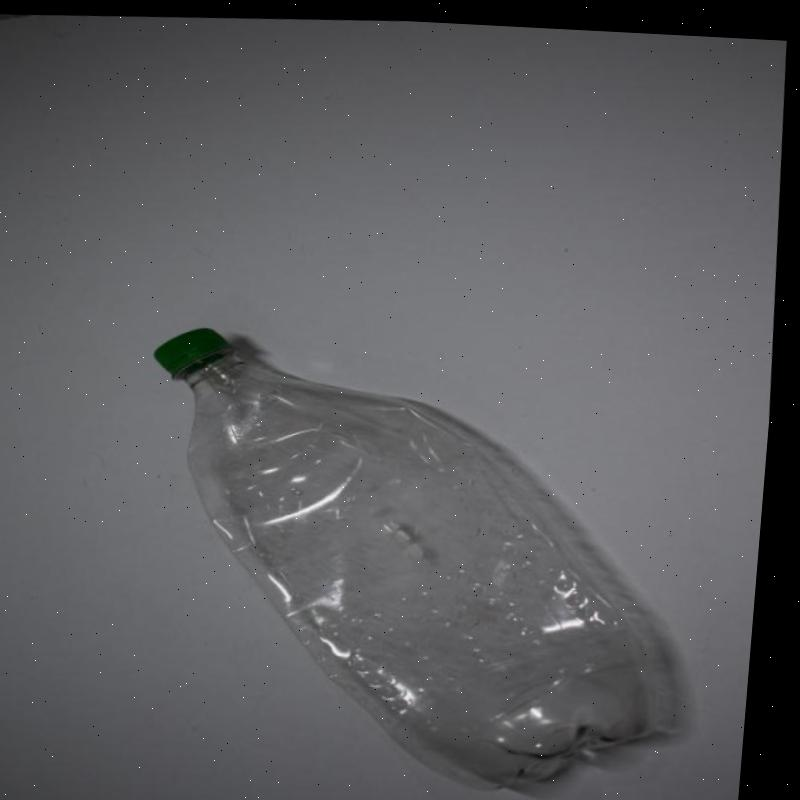botella: (130, 306, 707, 800)
